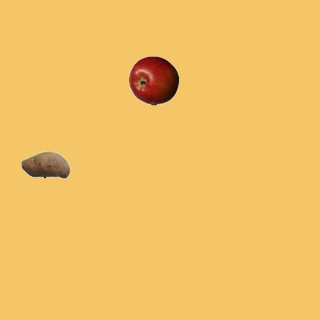Apple Braeburn: (128, 55, 178, 105)
Potato Sweet: (20, 139, 70, 189)
